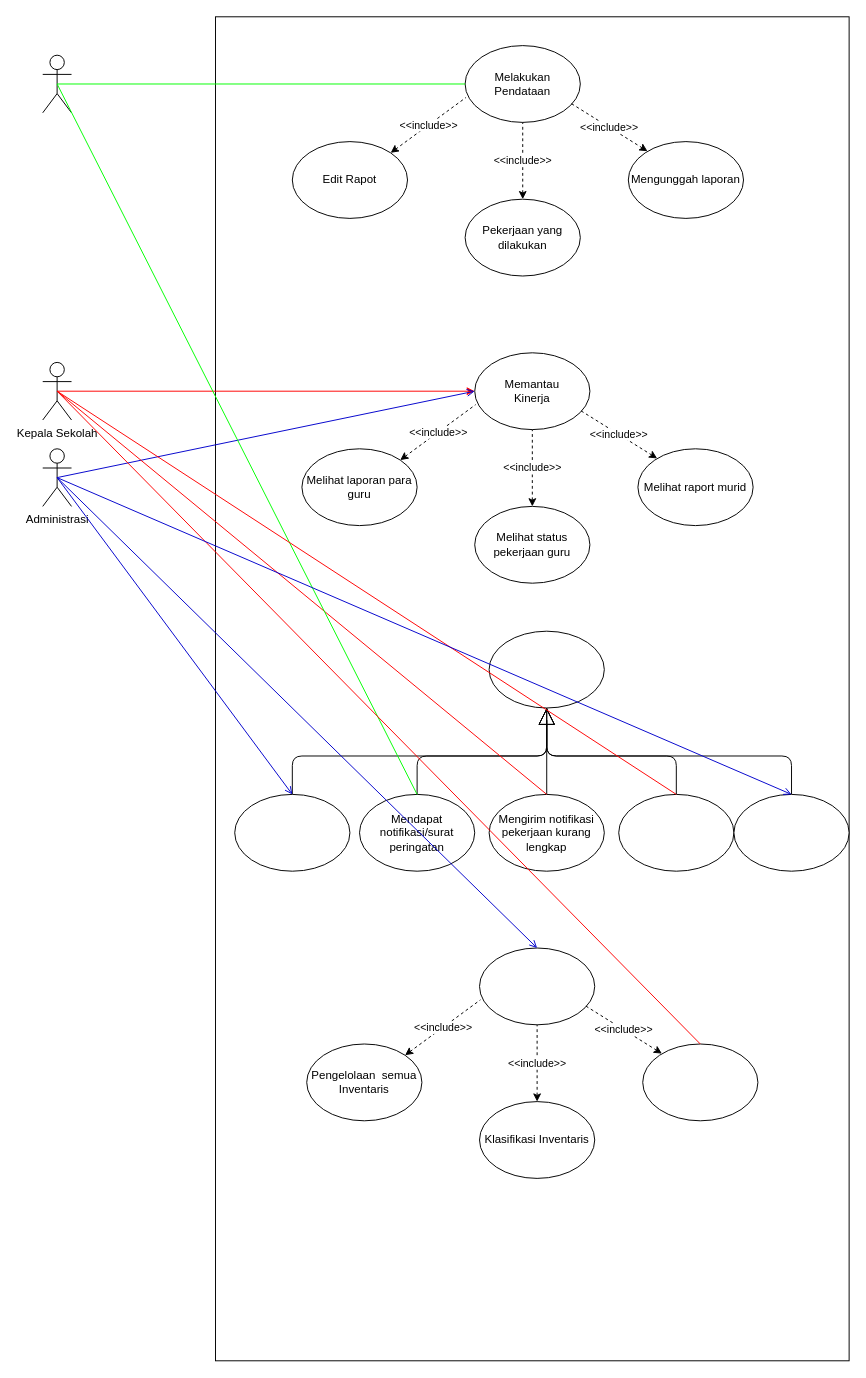
Some shapes in this 866 by 1378 pixel diagram are drawn without their labels. Here are the shapes that lost their labels. From the top down, the box of each, then its label:
(42, 54, 72, 113): Guru
(488, 630, 604, 708): {abstract} Notifikasi
(234, 793, 350, 871): Memberi surat peringatan
(618, 793, 734, 871): Mengirim notifikasi inventaris yang harus diCRUD
(733, 793, 849, 871): Menerima notifikasi inventaris yang harus diCRUD
(479, 947, 595, 1025): Monitoring Inventaris
(642, 1043, 758, 1121): Melihat data Inventaris
